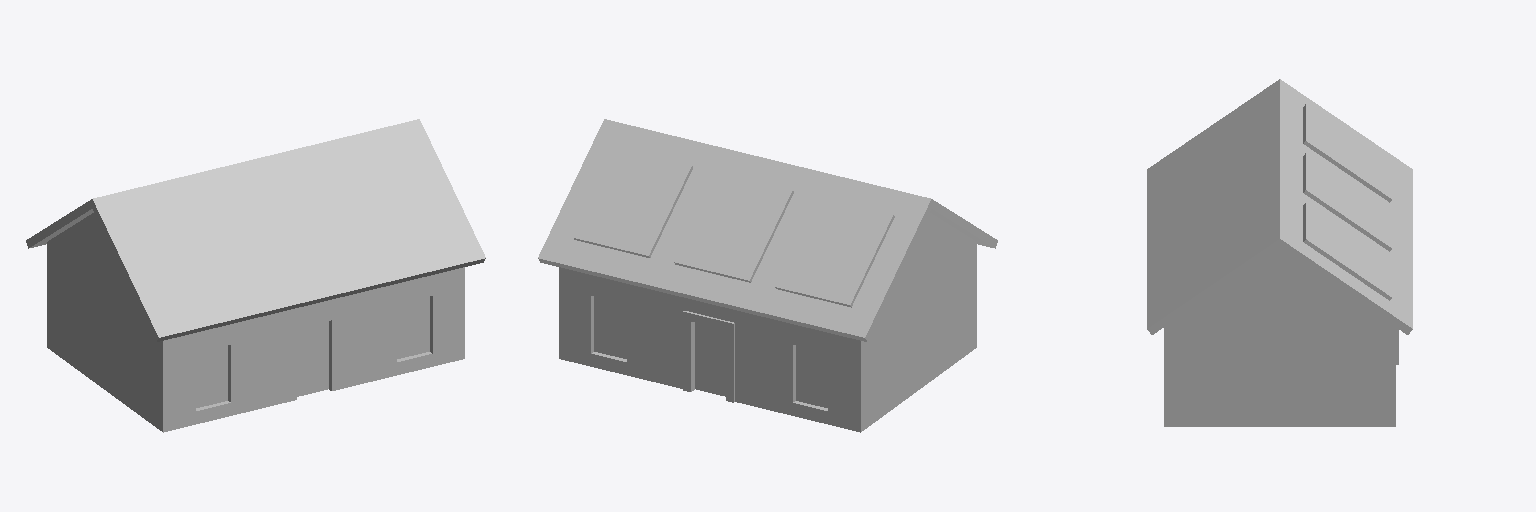
The model's file is house_type01.obj.
3 views of the same model, side by side, from view 1: azimuth 30°, elevation 25°; view 2: azimuth 150°, elevation 25°; view 3: azimuth 270°, elevation 25° (orthographic).
Parts seen in each view (by area): view 1: house_type01; view 2: house_type01; view 3: house_type01.
Part boxes in pixels (bbox=[...]): house_type01: bbox=[26, 119, 485, 432]; house_type01: bbox=[538, 119, 997, 432]; house_type01: bbox=[1147, 79, 1412, 426].
Bounding box in the file's own units: 1.3 × 0.7375 × 0.916.